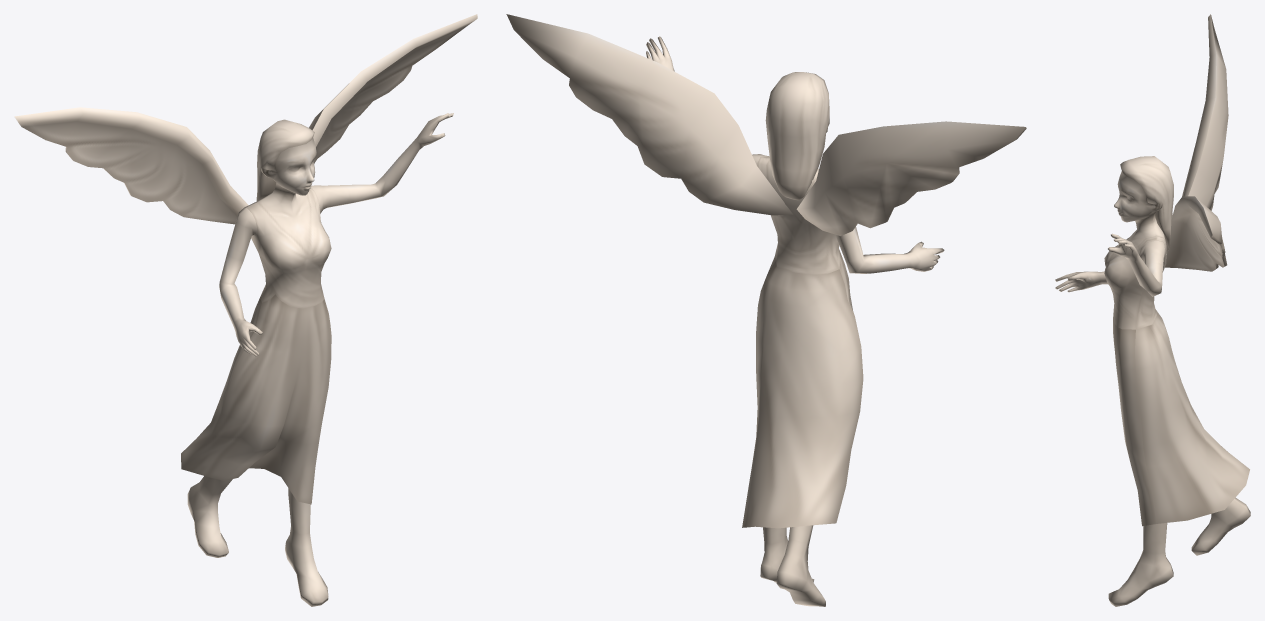
The model's file is FaYuanWai_01_DiaoSu_01.FBX.
3 renders of one model, left to right at view 1: azimuth 30°, elevation 25°; view 2: azimuth 150°, elevation 25°; view 3: azimuth 270°, elevation 25°, orthographic. The views are drawn at different scales.
Visible parts, largest first — view 1: FaYuanWai_01_DiaoSu_01; view 2: FaYuanWai_01_DiaoSu_01; view 3: FaYuanWai_01_DiaoSu_01.
Boxes of the visible parts, box(x1,y1,x2,y2) form: FaYuanWai_01_DiaoSu_01: box(14, 14, 477, 606); FaYuanWai_01_DiaoSu_01: box(506, 14, 1026, 606); FaYuanWai_01_DiaoSu_01: box(1055, 14, 1250, 606).
Size of the model in its own units: 1871 by 1970 by 736.
